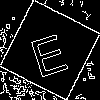E: (25, 25, 71, 78)
